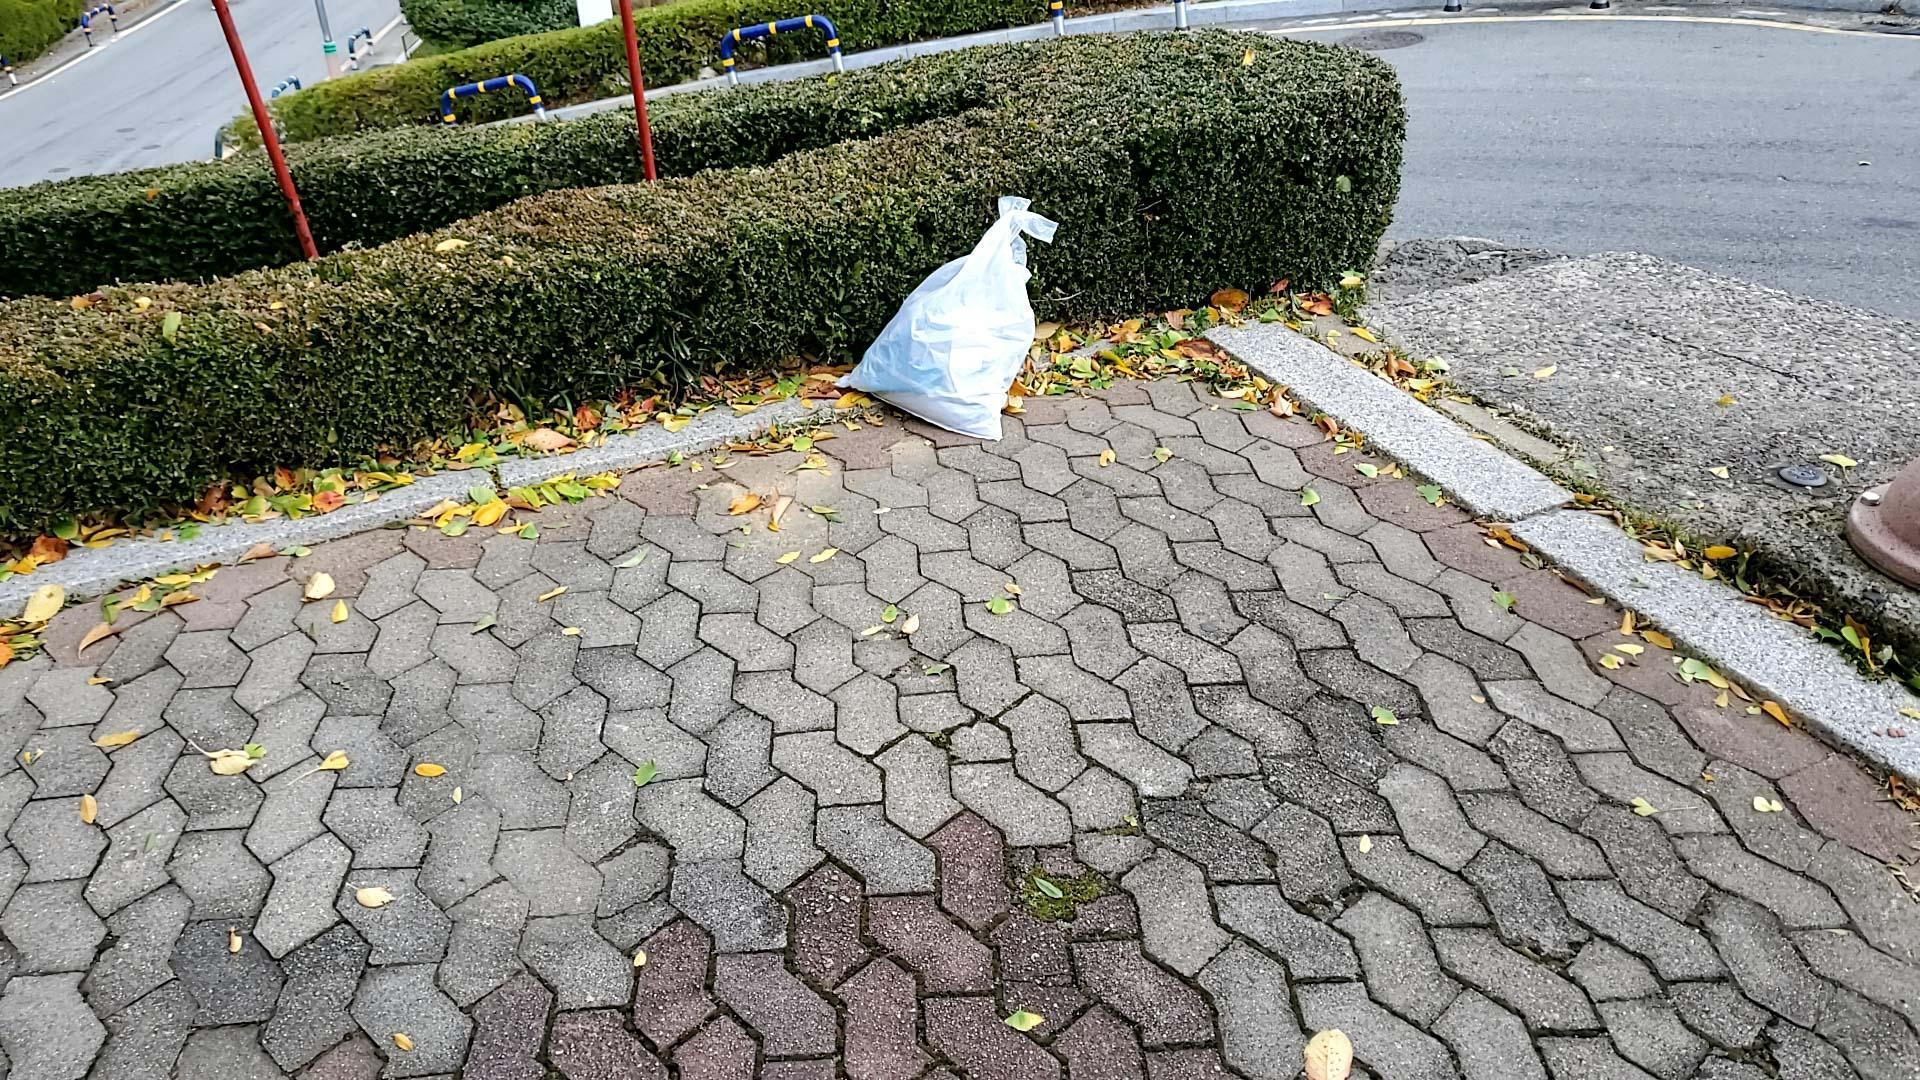white_bag: (825, 171, 1062, 456)
